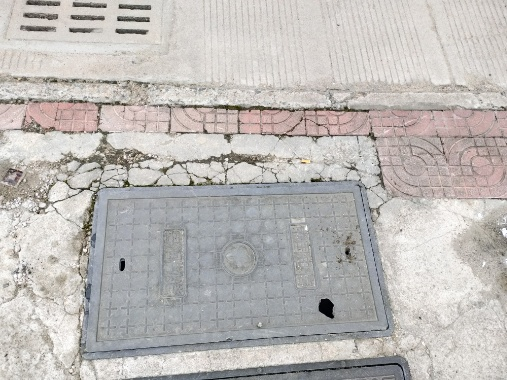broke: (81, 184, 394, 354)
